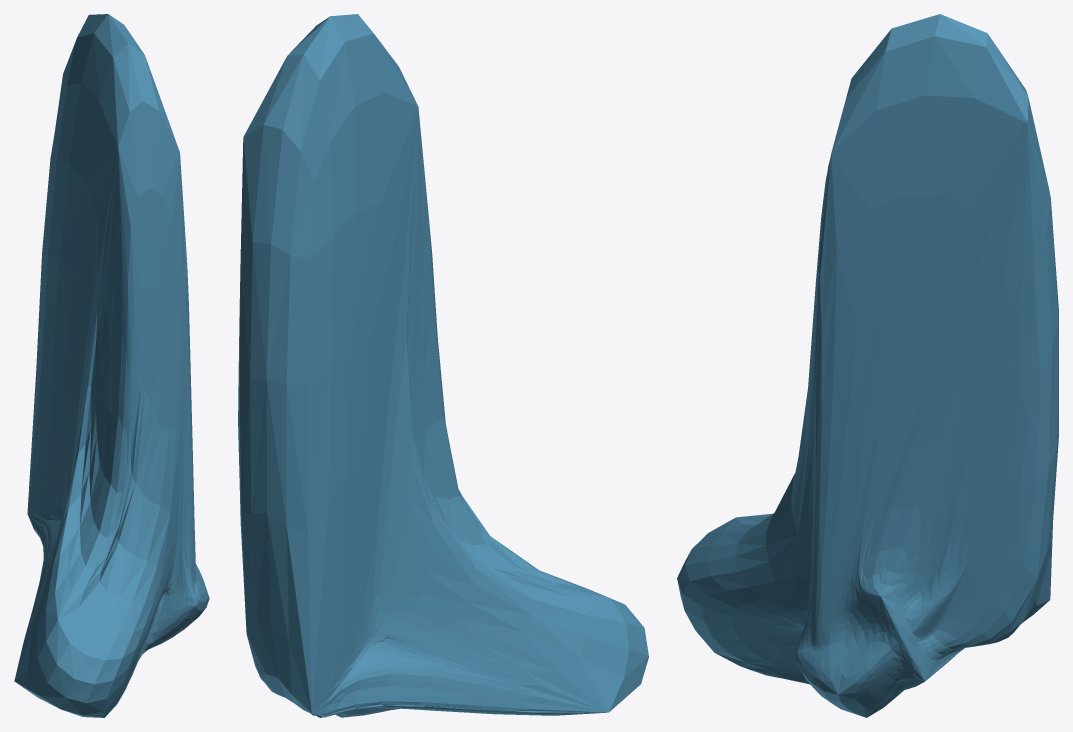
3 renders of one model, left to right at view 1: azimuth 30°, elevation 25°; view 2: azimuth 150°, elevation 25°; view 3: azimuth 270°, elevation 25°, orthographic. The views are drawn at different scales.
Visible parts, largest first — view 1: 211_Cube.873; view 2: 211_Cube.873; view 3: 211_Cube.873.
Boxes of the visible parts, x1=… form: 211_Cube.873: x1=14, y1=14, x2=209, y2=717; 211_Cube.873: x1=238, y1=14, x2=648, y2=717; 211_Cube.873: x1=677, y1=14, x2=1058, y2=717.
Bounding box in the file's own units: 4.85 × 12.85 × 6.38.
